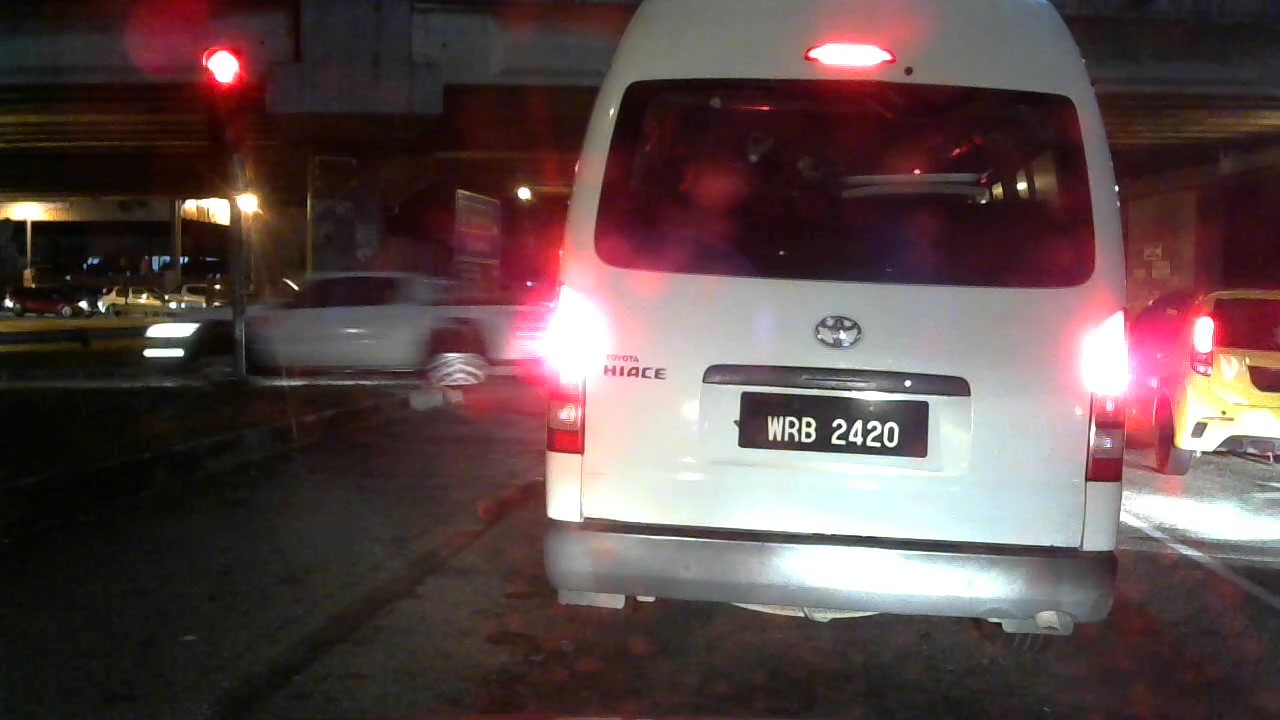Car: (107, 255, 543, 371), (1131, 259, 1280, 471)
